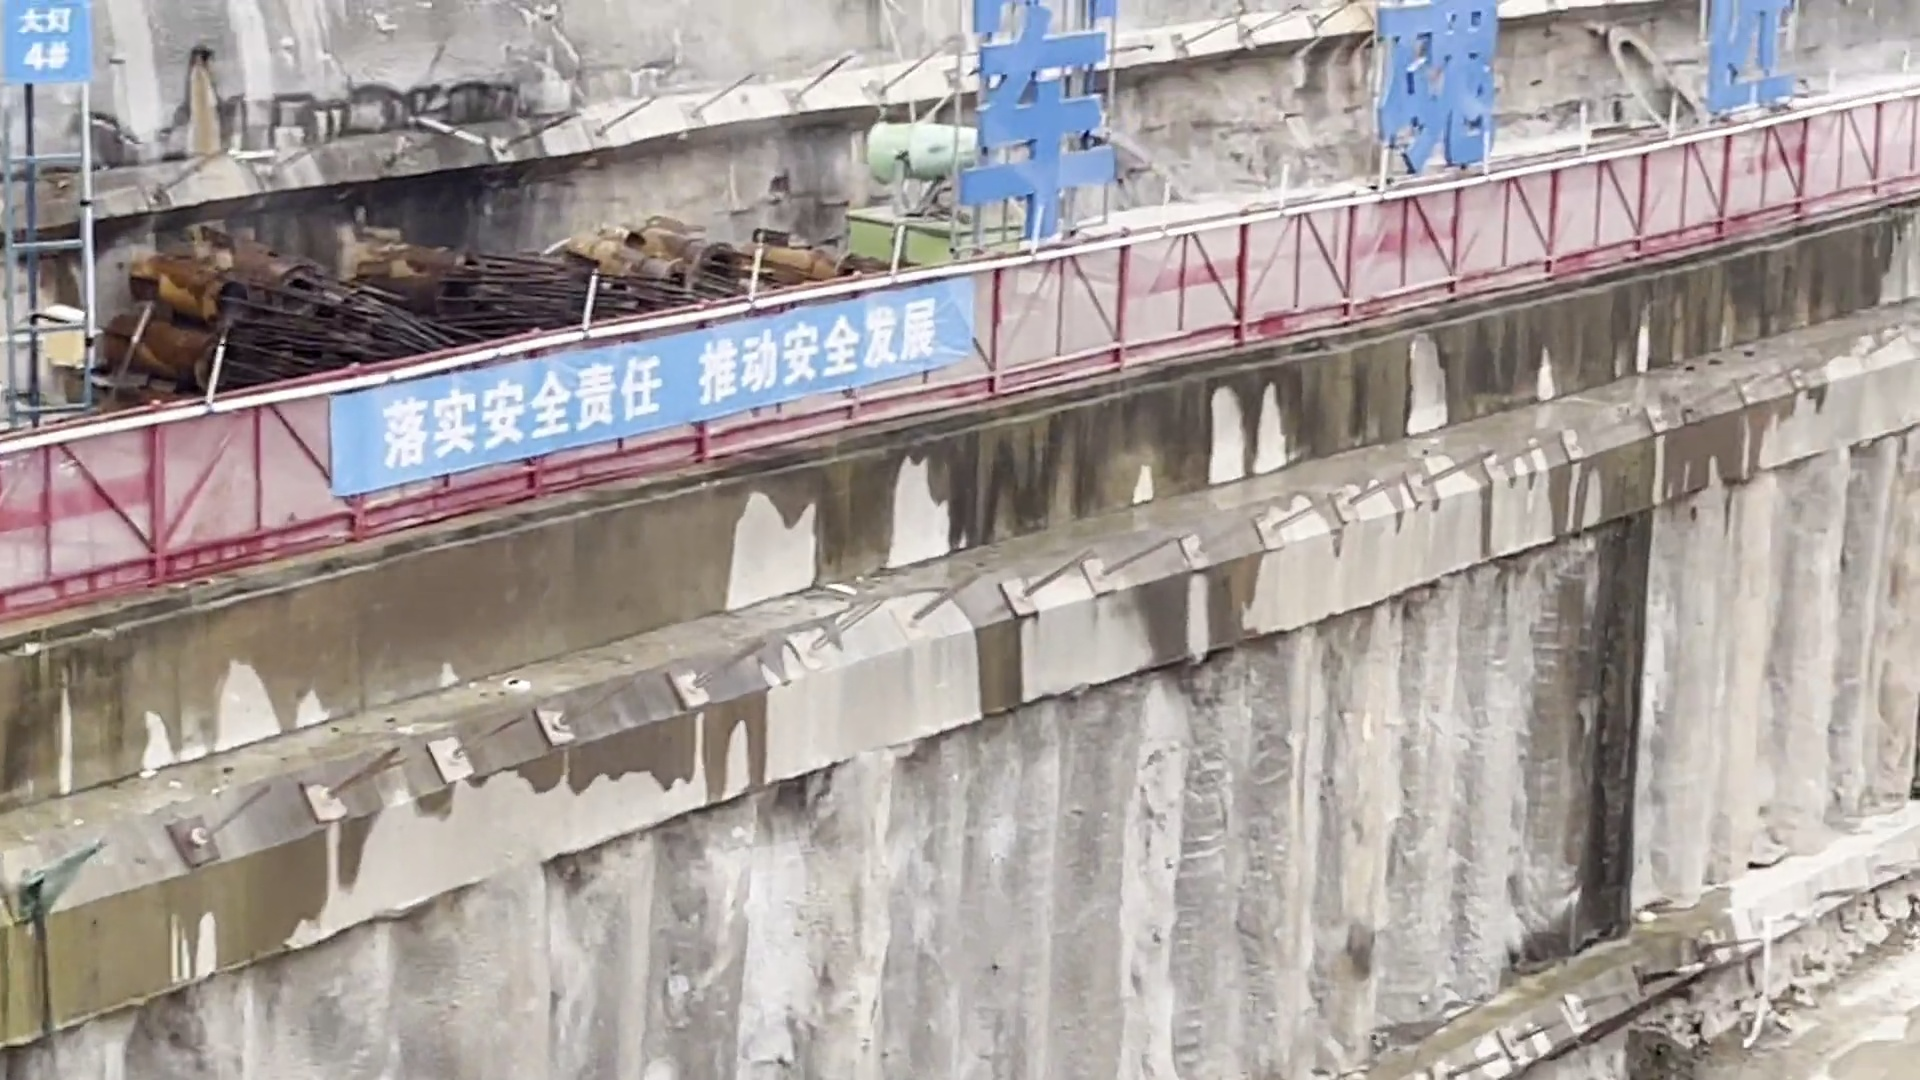fence: (1, 75, 1920, 655)
slogan: (371, 282, 957, 467)
